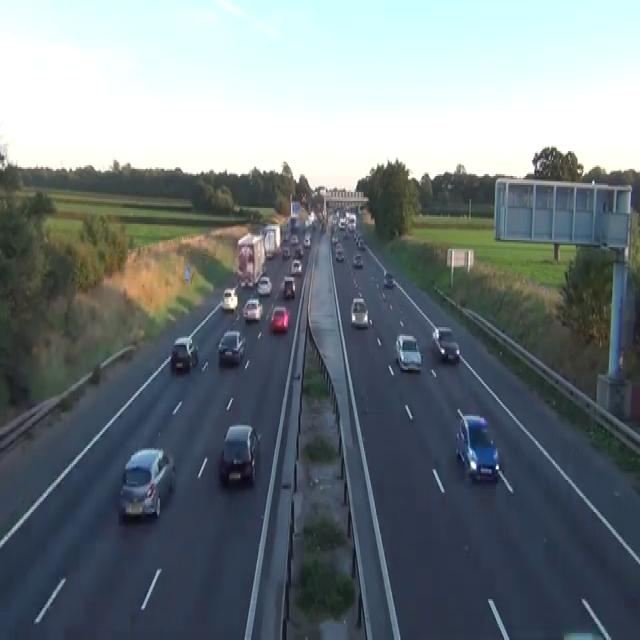Car: (118, 446, 175, 521), (455, 409, 499, 483), (219, 423, 260, 485), (394, 332, 423, 372), (432, 325, 460, 363), (171, 336, 198, 372), (218, 329, 245, 364), (350, 297, 369, 327), (270, 304, 289, 332), (242, 297, 262, 322), (221, 288, 238, 311), (256, 276, 272, 295), (562, 631, 605, 638), (282, 275, 295, 297), (91, 361, 101, 382), (290, 260, 302, 274), (335, 244, 344, 262), (376, 282, 385, 300), (383, 272, 394, 286), (352, 252, 363, 266), (441, 180, 455, 190), (183, 263, 190, 283), (294, 245, 303, 258), (354, 231, 363, 244), (282, 246, 290, 260), (357, 236, 365, 249), (338, 217, 346, 229), (245, 277, 253, 288), (303, 235, 310, 247), (290, 233, 298, 243), (331, 233, 338, 243), (304, 217, 311, 227), (320, 222, 326, 233), (266, 249, 273, 258), (353, 231, 358, 242), (261, 263, 266, 274), (283, 233, 289, 242)
Truck: (236, 231, 265, 286), (261, 224, 280, 258)
